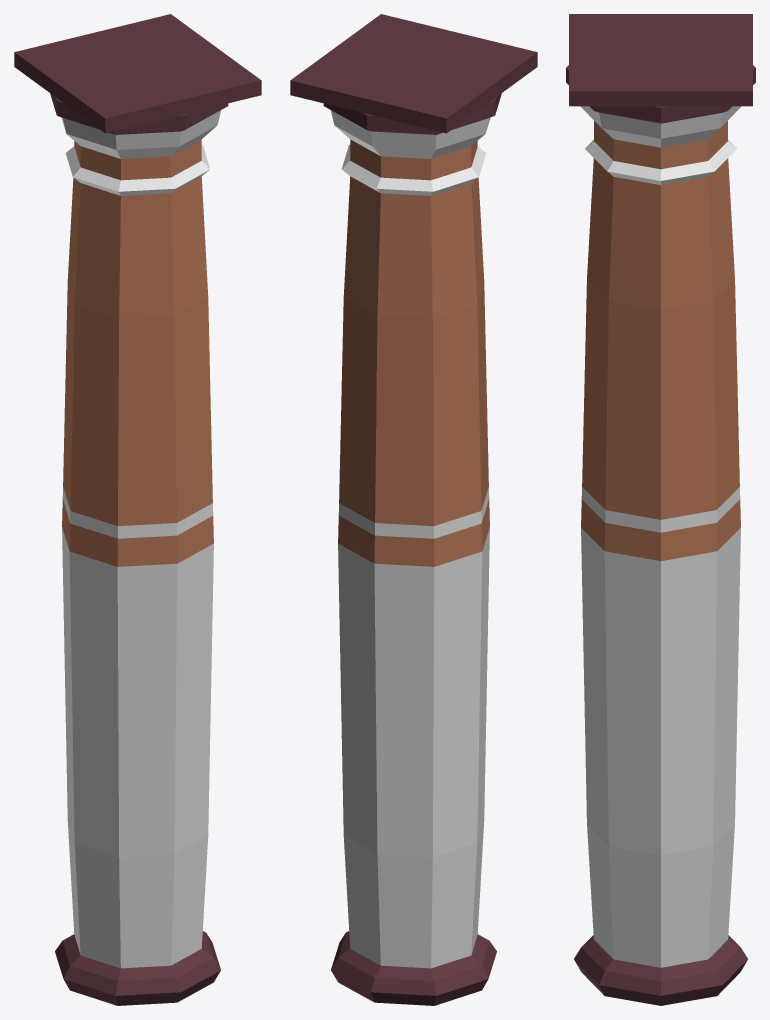
File: empire-pillar-tuscan-medium-color-empire.glb
3 renders of one model, left to right at view 1: azimuth 30°, elevation 25°; view 2: azimuth 150°, elevation 25°; view 3: azimuth 270°, elevation 25°, orthographic.
Visible parts, largest first — view 1: SM_Pillar_Tuscan_Medium_Color_Empire; view 2: SM_Pillar_Tuscan_Medium_Color_Empire; view 3: SM_Pillar_Tuscan_Medium_Color_Empire.
Part boxes in pixels (bbox=[...]): SM_Pillar_Tuscan_Medium_Color_Empire: bbox=[14, 14, 261, 1005]; SM_Pillar_Tuscan_Medium_Color_Empire: bbox=[290, 14, 537, 1005]; SM_Pillar_Tuscan_Medium_Color_Empire: bbox=[566, 14, 755, 1005].
Size of the model in its own units: 1.12 by 6 by 1.12.
